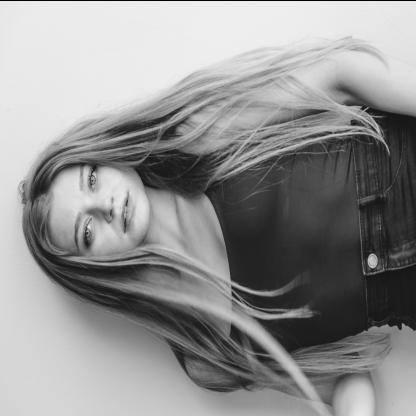Eye: (79, 212, 97, 246), (84, 164, 100, 196)
Mouth: (116, 187, 136, 237)
Nose: (92, 192, 115, 220)
